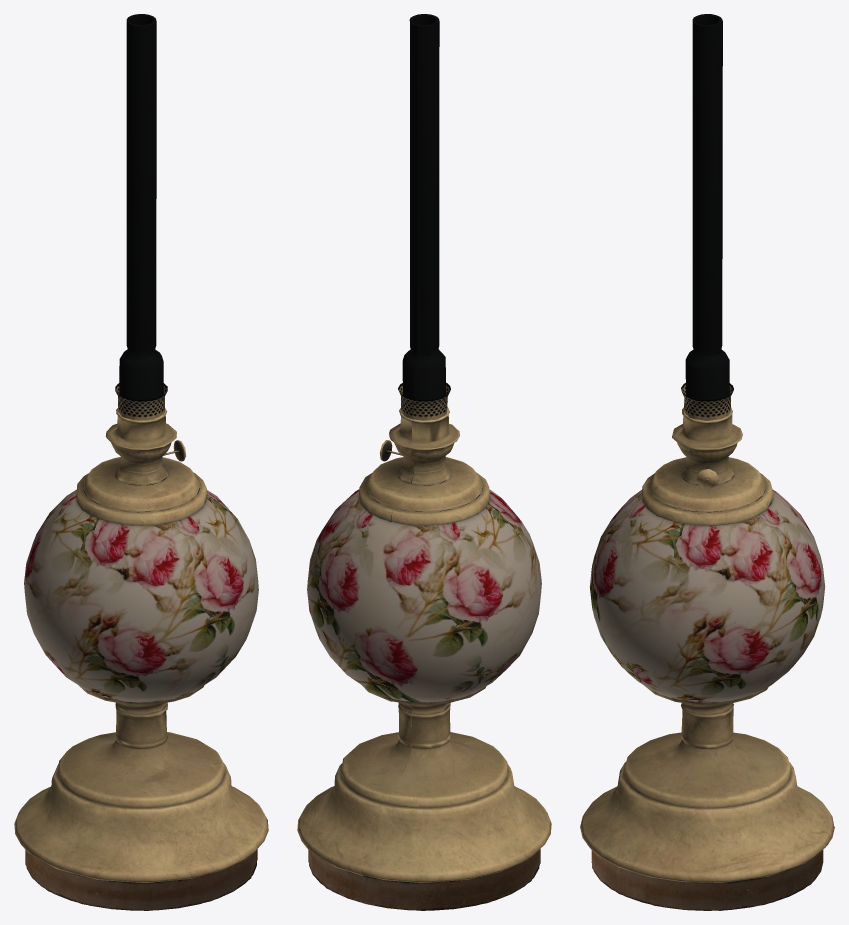
3 renders of one model, left to right at view 1: azimuth 30°, elevation 25°; view 2: azimuth 150°, elevation 25°; view 3: azimuth 270°, elevation 25°, orthographic.
Parts seen in each view (by area): view 1: vintage_oil_lamp_glass; view 2: vintage_oil_lamp_glass; view 3: vintage_oil_lamp_glass.
Boxes of the visible parts, x1=… form: vintage_oil_lamp_glass: x1=14, y1=14, x2=268, y2=910; vintage_oil_lamp_glass: x1=297, y1=14, x2=551, y2=910; vintage_oil_lamp_glass: x1=580, y1=14, x2=834, y2=910.
Bounding box in the file's own units: 0.22 × 0.8016 × 0.22.
Materials: 3 (3 with a texture image).
